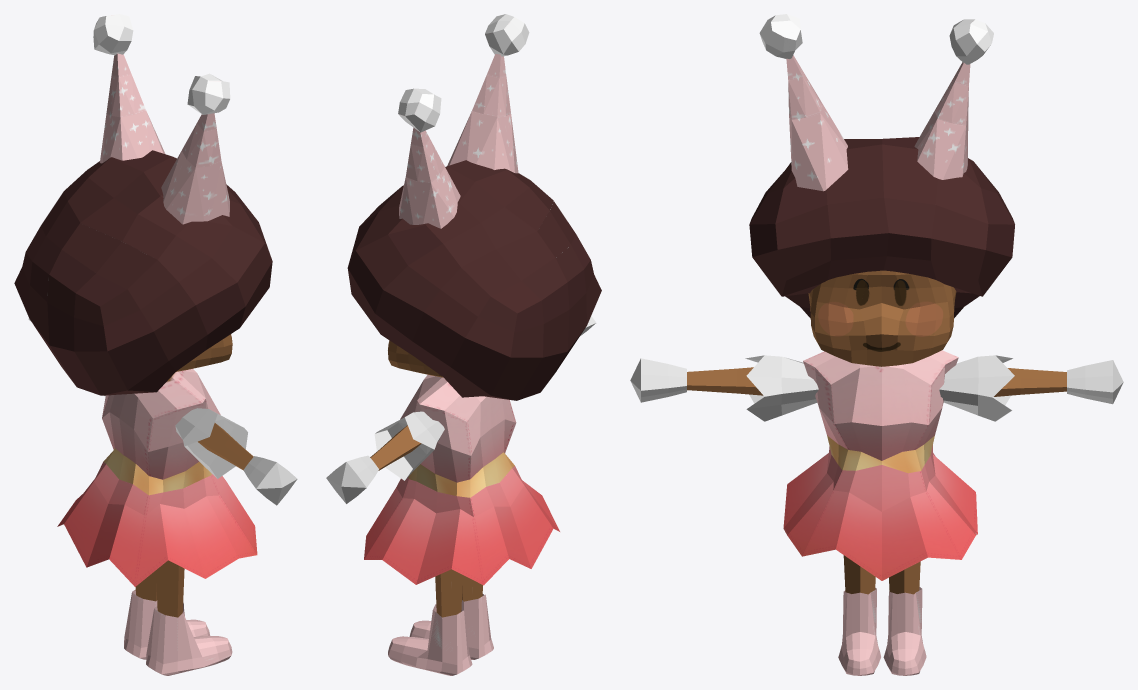
File: witch FinalFR.fbx
The picture shows the model from 3 angles, left to right: view 1: azimuth 30°, elevation 25°; view 2: azimuth 150°, elevation 25°; view 3: azimuth 270°, elevation 25°; orthographic projection. The views are drawn at different scales.
Parts seen in each view (by area): view 1: Hairr, Torso, LeftHat, LeftHat.001, Right Boot, LeftShoulder, Right Boot.001, LeftHand, LeftLeg, LeftArm.001, HeadNew, RightLeg.001; view 2: Hairr, Torso, LeftHat, LeftHat.001, Right Boot.001, RightShoulder, Right Boot, RightHand, RightLeg.001, RightArm, HeadNew, LeftLeg; view 3: Torso, Hairr, HeadNew, LeftHat, LeftHat.001, RightShoulder, LeftShoulder, Right Boot.001, Right Boot, LeftHand, RightHand, LeftArm.001 (+3 smaller).
Boxes of the visible parts, x1=… form: Hairr: x1=14, y1=150, x2=272, y2=395; Torso: x1=57, y1=369, x2=257, y2=586; LeftHat: x1=161, y1=73, x2=230, y2=224; LeftHat.001: x1=93, y1=14, x2=165, y2=163; Right Boot: x1=146, y1=603, x2=232, y2=675; LeftShoulder: x1=175, y1=408, x2=247, y2=478; Right Boot.001: x1=124, y1=589, x2=210, y2=659; LeftHand: x1=243, y1=456, x2=297, y2=505; LeftLeg: x1=156, y1=560, x2=184, y2=617; LeftArm.001: x1=198, y1=423, x2=253, y2=470; HeadNew: x1=176, y1=334, x2=232, y2=371; RightLeg.001: x1=135, y1=570, x2=156, y2=601; Hairr: x1=347, y1=160, x2=601, y2=400; Torso: x1=364, y1=375, x2=559, y2=585; LeftHat: x1=447, y1=14, x2=529, y2=173; LeftHat.001: x1=398, y1=88, x2=460, y2=228; Right Boot.001: x1=388, y1=604, x2=472, y2=675; RightShoulder: x1=374, y1=411, x2=444, y2=480; Right Boot: x1=409, y1=594, x2=493, y2=659; RightHand: x1=326, y1=455, x2=378, y2=503; RightLeg.001: x1=435, y1=569, x2=462, y2=617; RightArm: x1=370, y1=425, x2=421, y2=470; HeadNew: x1=388, y1=340, x2=443, y2=377; LeftLeg: x1=462, y1=575, x2=482, y2=601; Torso: x1=783, y1=350, x2=977, y2=580; Hairr: x1=749, y1=137, x2=1014, y2=318; HeadNew: x1=808, y1=270, x2=956, y2=366; LeftHat: x1=759, y1=14, x2=848, y2=191; LeftHat.001: x1=914, y1=19, x2=993, y2=179; RightShoulder: x1=939, y1=355, x2=1014, y2=421; LeftShoulder: x1=745, y1=355, x2=818, y2=421; Right Boot.001: x1=883, y1=587, x2=926, y2=675; Right Boot: x1=838, y1=588, x2=880, y2=675; LeftHand: x1=630, y1=358, x2=686, y2=402; RightHand: x1=1067, y1=360, x2=1123, y2=404; LeftArm.001: x1=687, y1=367, x2=763, y2=395.
Size of the model in its own units: 311 by 964 by 681.
15 materials, 11 textured.
